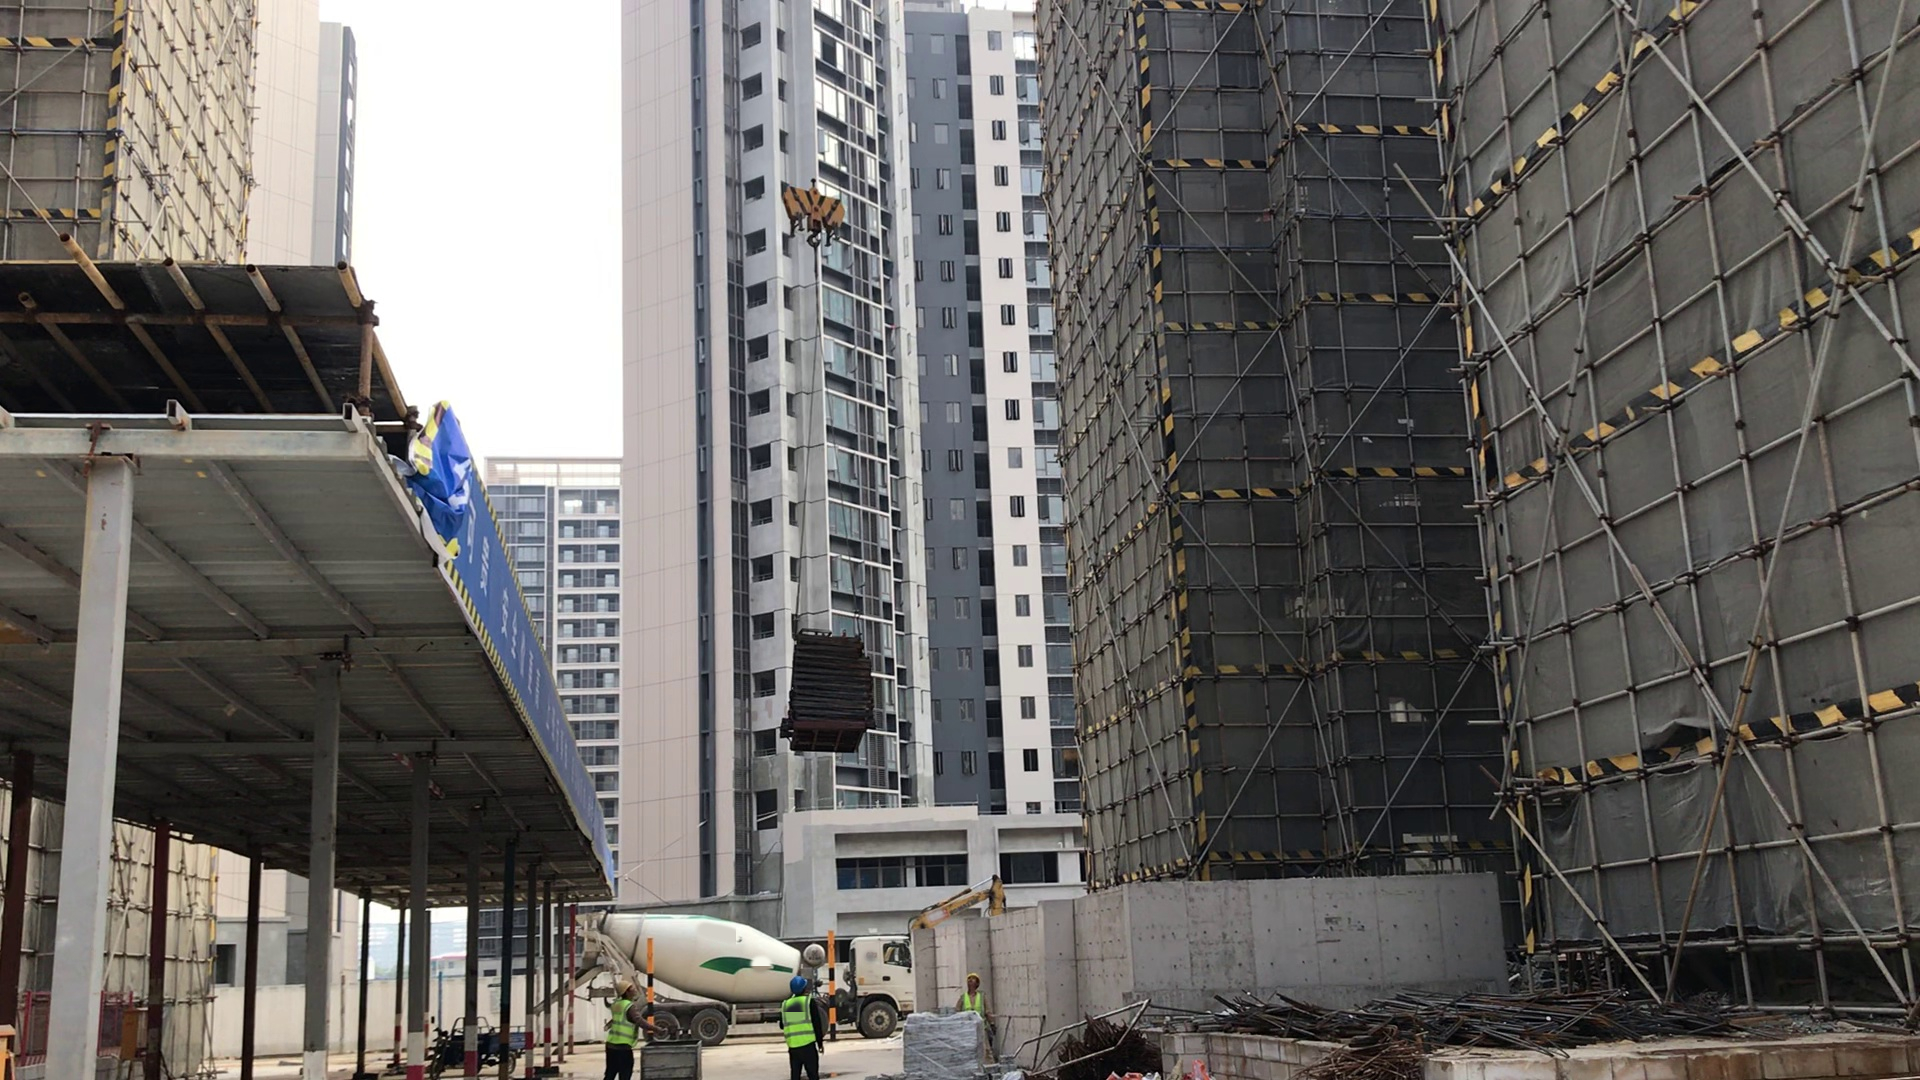ebox: (110, 993, 157, 1079)
helmet: (610, 977, 637, 998), (785, 970, 810, 992), (964, 967, 986, 982)
hook: (777, 176, 851, 242)
person: (777, 980, 832, 1080), (606, 979, 642, 1080), (959, 964, 996, 1019)
vest: (781, 996, 821, 1048), (608, 1000, 631, 1048), (960, 989, 987, 1016)
